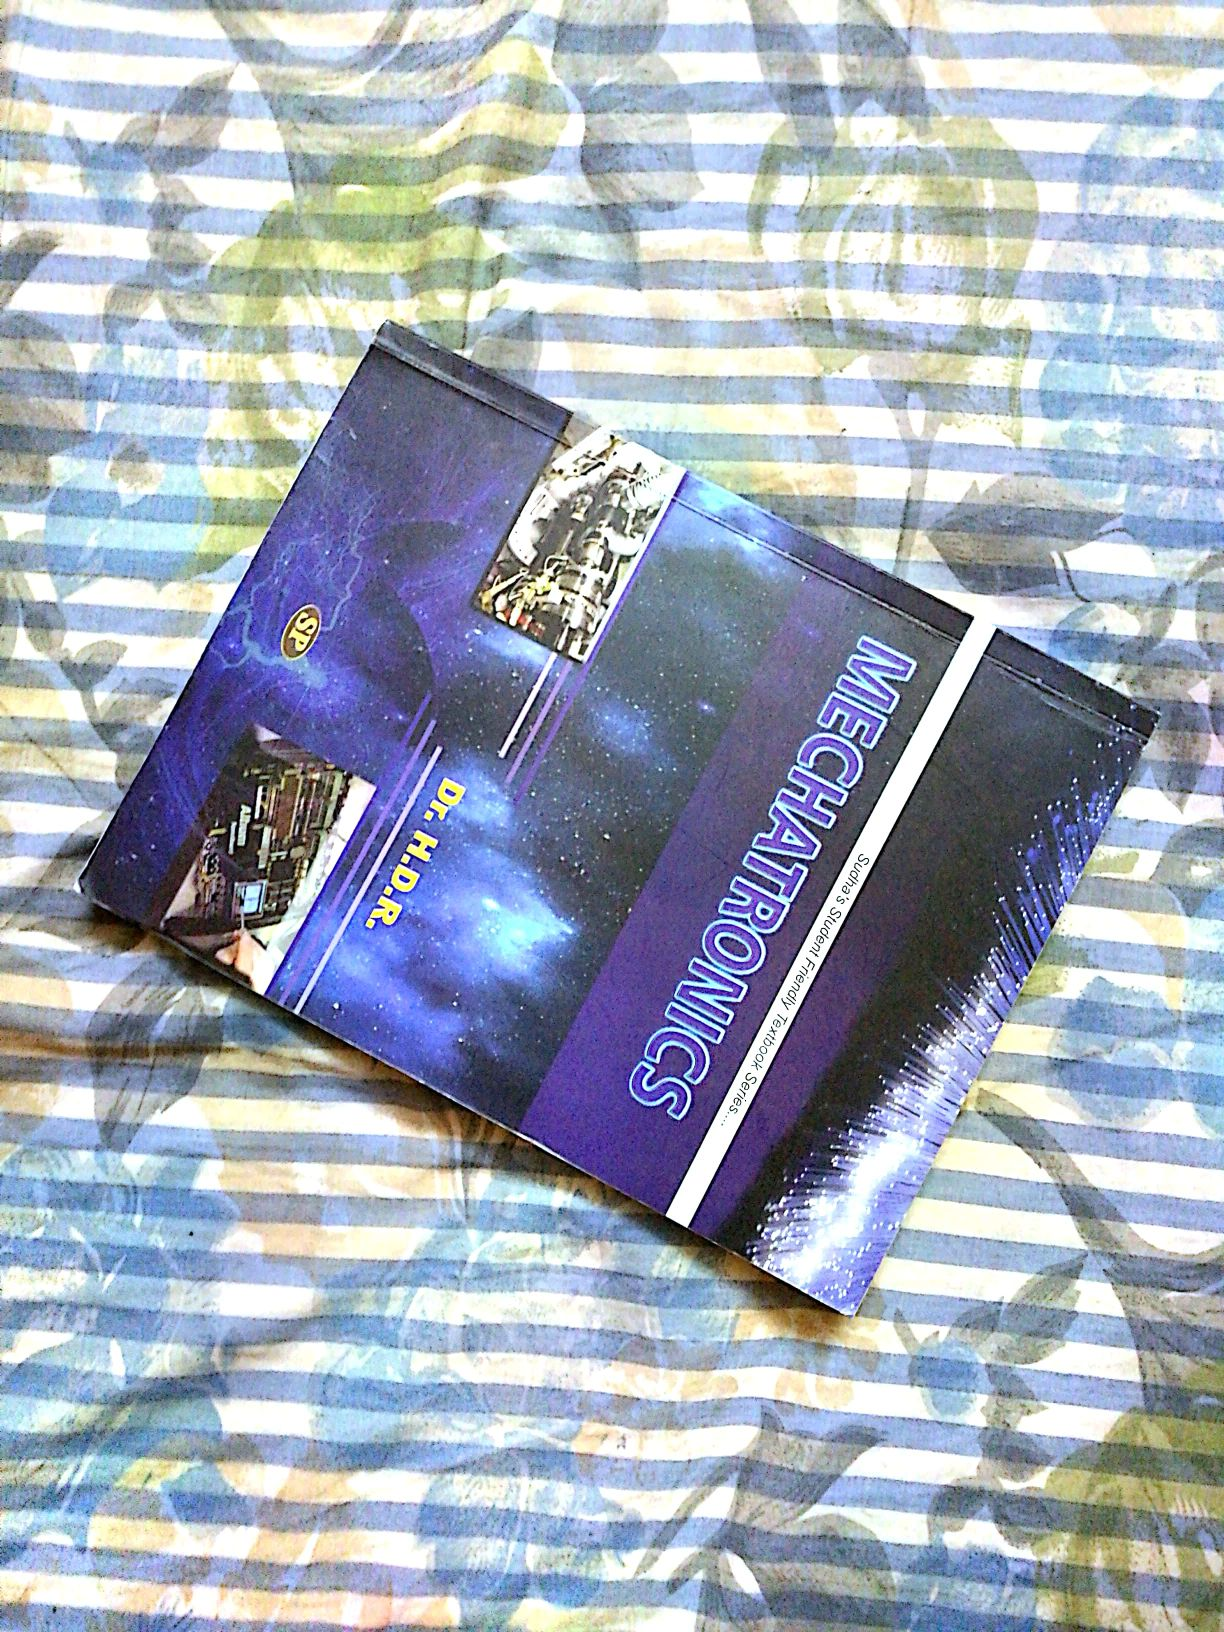mechatronics: (48, 332, 1158, 1266)
